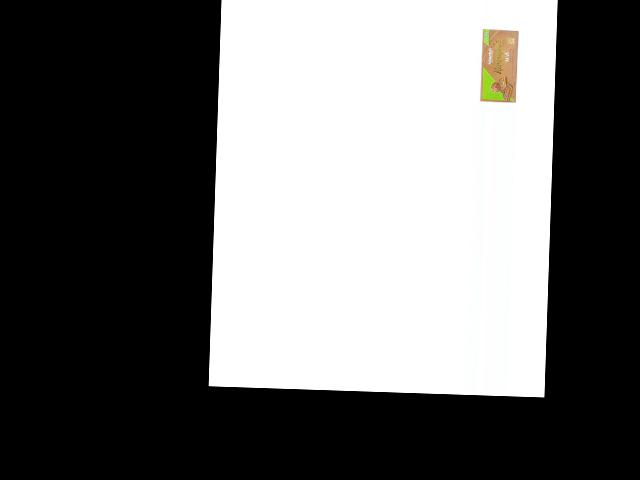chocolate: (478, 26, 522, 104)
